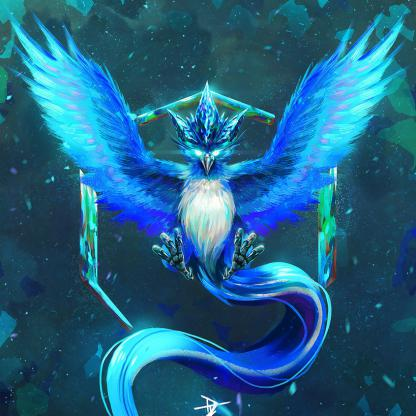Articuno: (164, 86, 265, 296)
